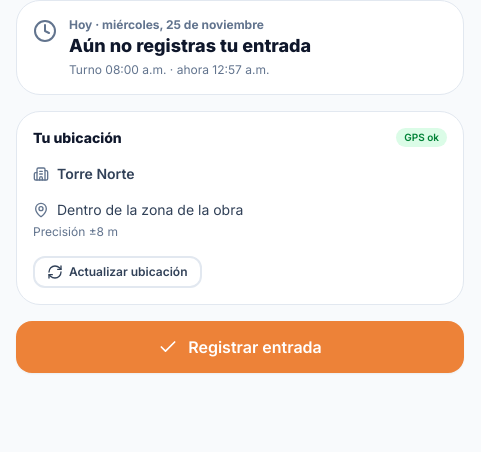
Test case: MiAsistencia › rechazo de la API y la recarga falla por red: conserva la pantalla y el motivo del rechazo
Click the button "Registrar entrada". click: (240, 346)
box: x1=16 y1=320 x2=464 y2=372
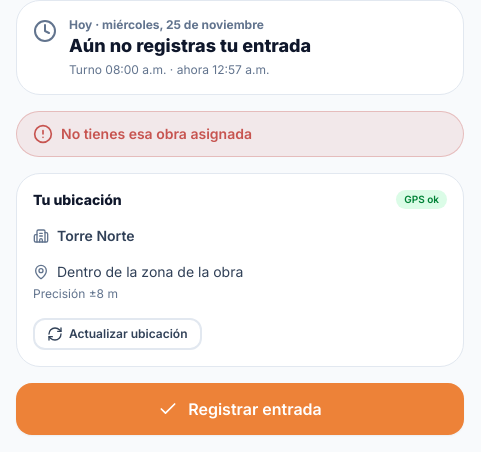
Expected: the button "Registrar entrada" is enabled, x1=16 y1=382 x2=464 y2=434
Expected: the message reads "No tienes esa obra asignada", x1=61 y1=124 x2=252 y2=142
